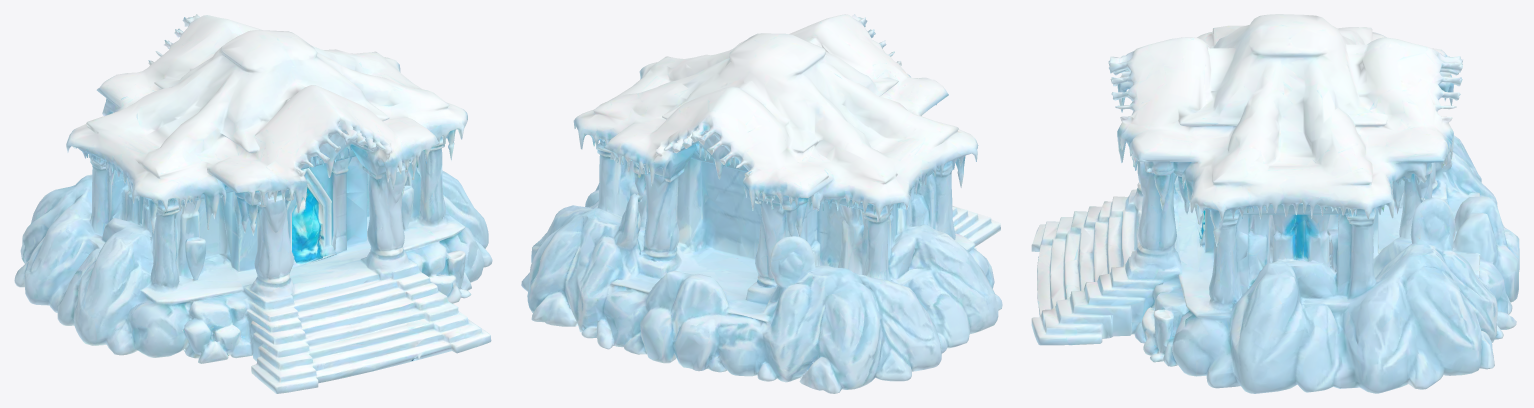
File: ice_temple.glb
3 renders of one model, left to right at view 1: azimuth 30°, elevation 25°; view 2: azimuth 150°, elevation 25°; view 3: azimuth 270°, elevation 25°, orthographic. The views are drawn at different scales.
Parts seen in each view (by area): view 1: 0; view 2: 0; view 3: 0.
Part boxes in pixels (x1,y1,x2,y2): 0: [14, 14, 492, 393]; 0: [521, 14, 1002, 393]; 0: [1031, 14, 1519, 393].
Size of the model in its own units: 1.91 by 1.1 by 1.83.
Materials: 1 (1 with a texture image).
